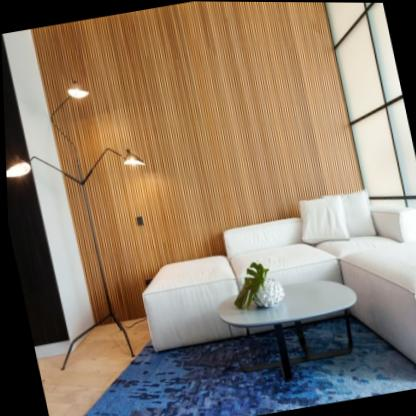Sofa: (130, 171, 416, 416)
Wall Panel: (29, 1, 362, 325)
Wooden floor: (34, 317, 147, 416)
